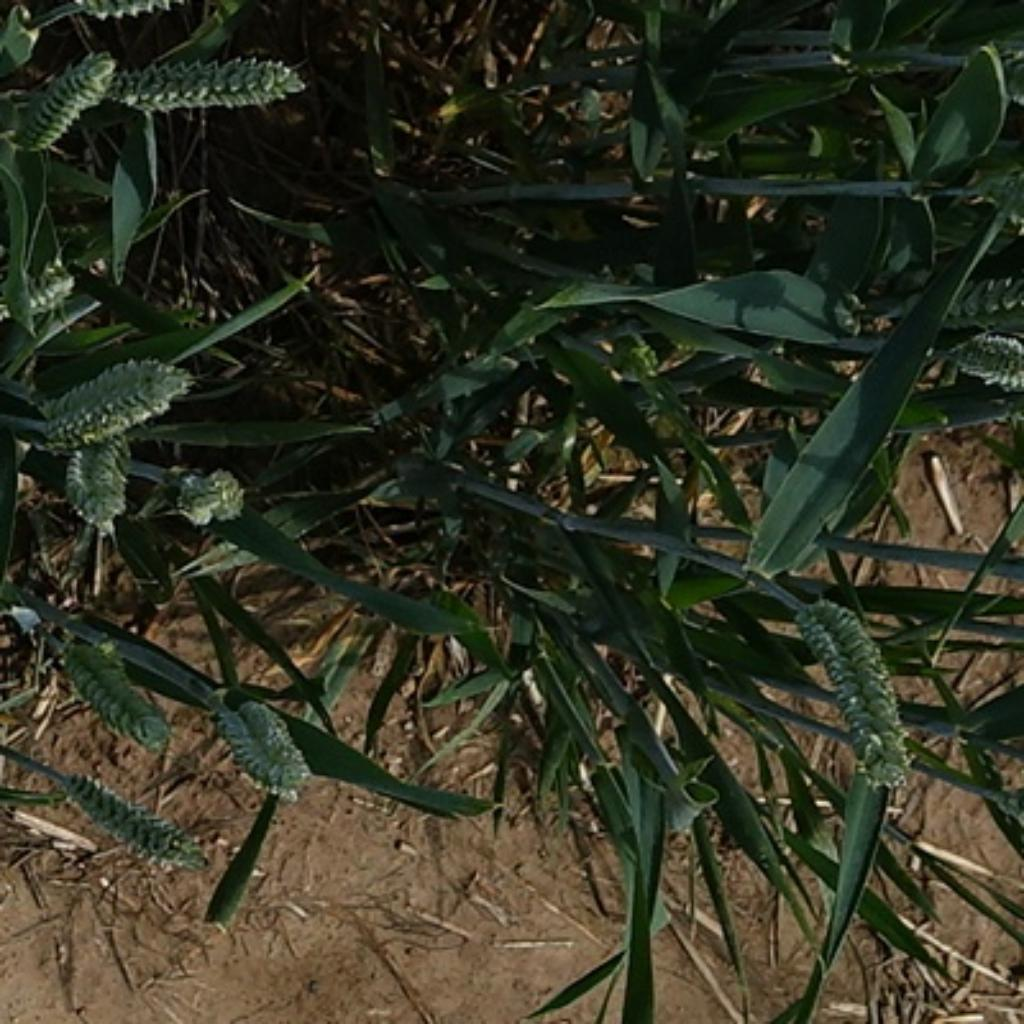0-0: (791, 586, 908, 788), (97, 43, 322, 125), (40, 760, 220, 862), (28, 343, 199, 445), (5, 40, 120, 151), (53, 627, 166, 739), (215, 697, 315, 802), (54, 434, 134, 532), (0, 240, 81, 330), (935, 331, 1024, 402), (928, 270, 1024, 334), (166, 460, 253, 529), (53, 0, 204, 32)
